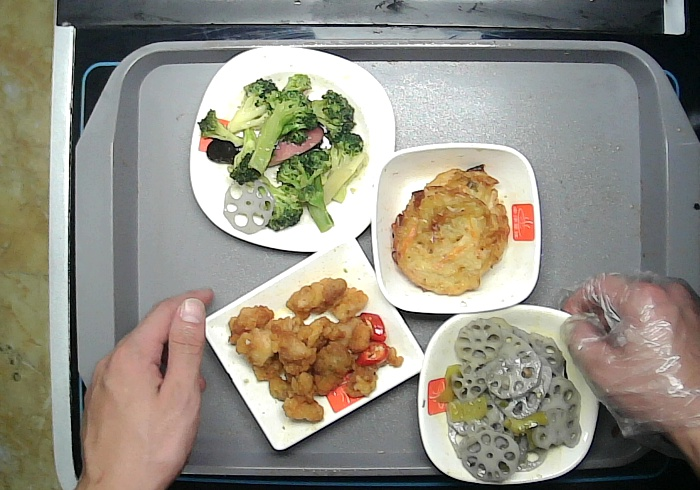SHKJ-Bai_Se_Cai_Die: (417, 301, 604, 483)
SHKJ-Bai_Se_Si_Fang_Cai_Die: (188, 44, 398, 251)
SHKJ-Bai_Se_Xiao_Fang_Die: (369, 141, 548, 316)
SHKJ-Si_Fang_Min: (201, 235, 428, 446)
